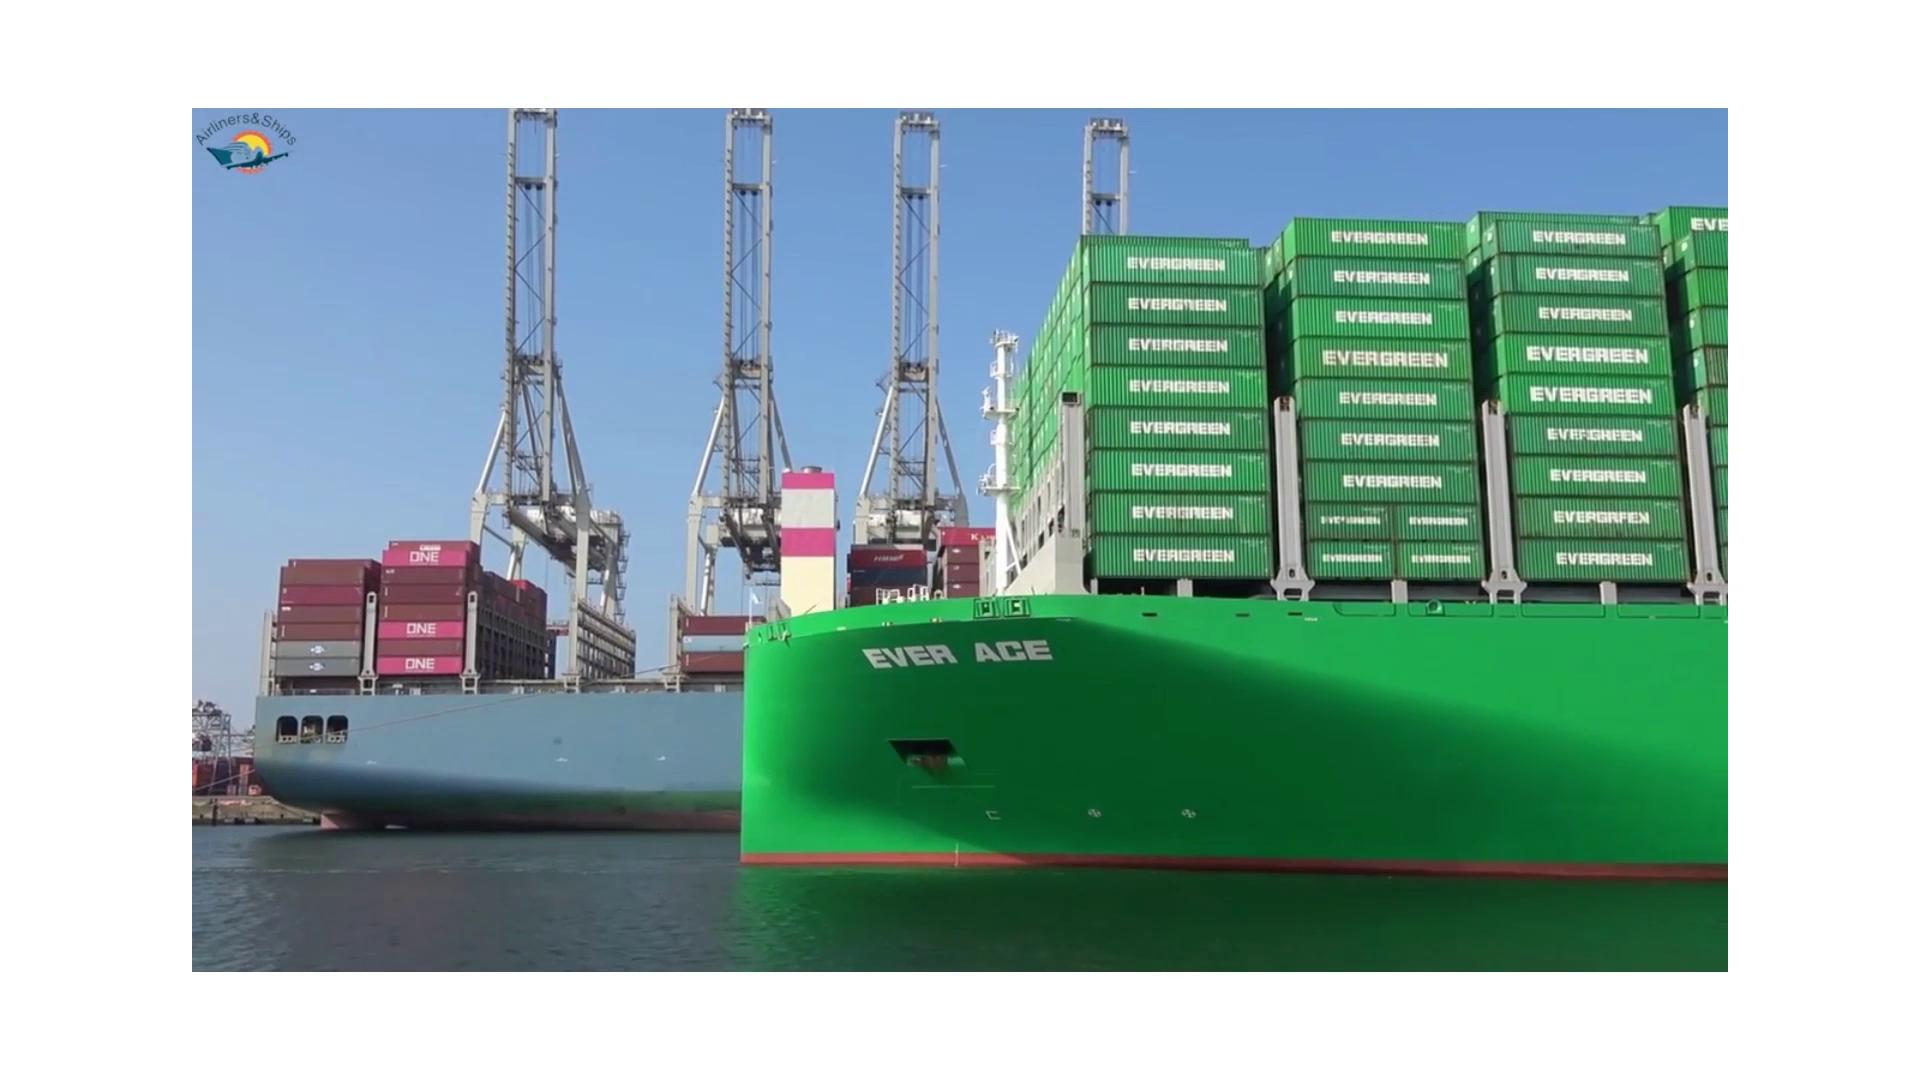OCR: (837, 629, 1073, 692)
